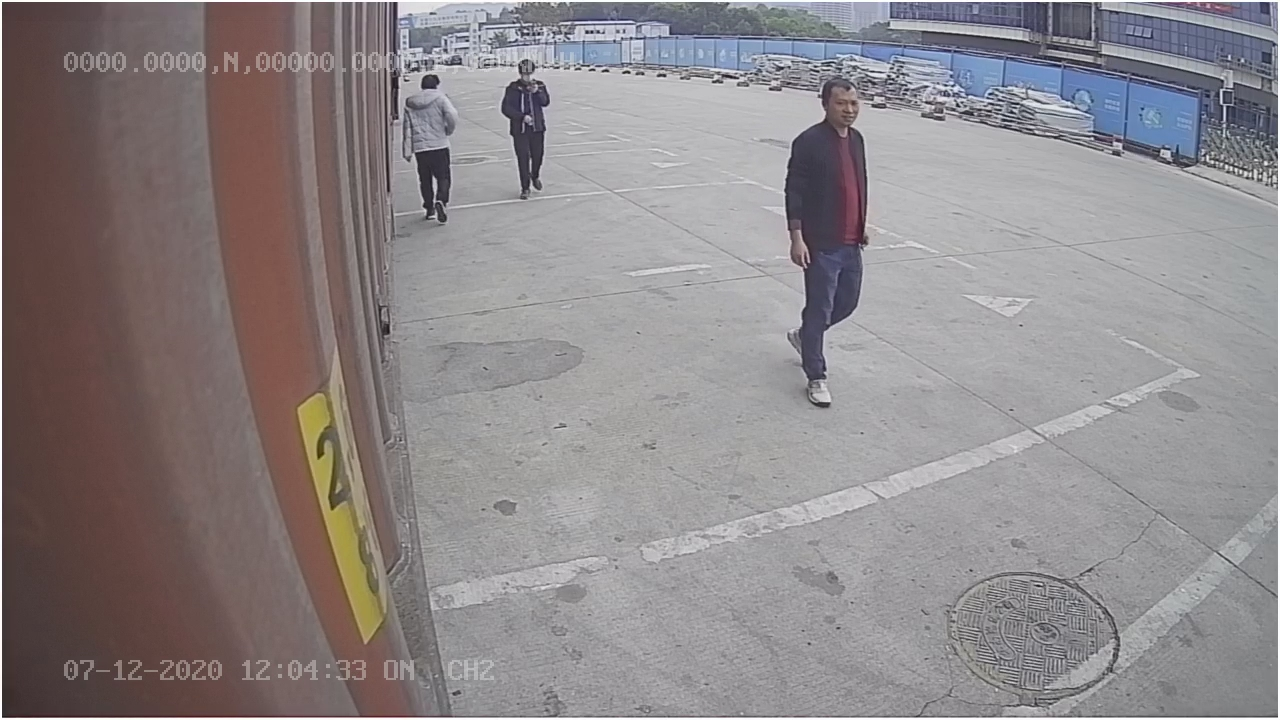person: (785, 67, 875, 407)
